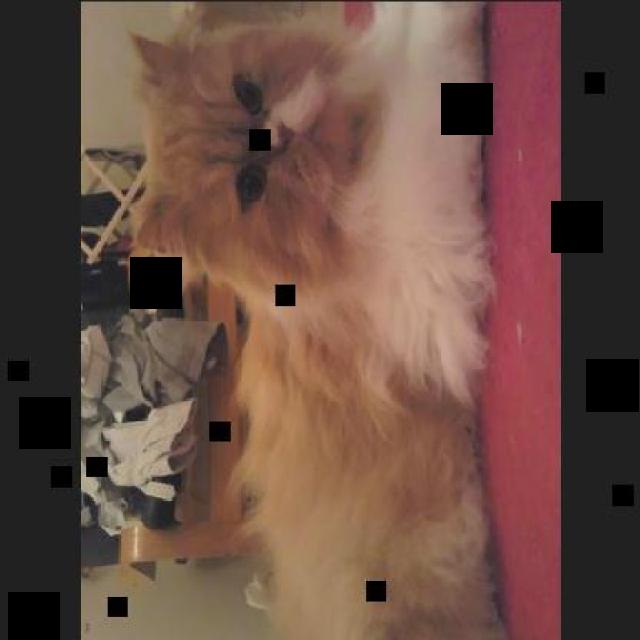unauthorized: (126, 0, 510, 638)
